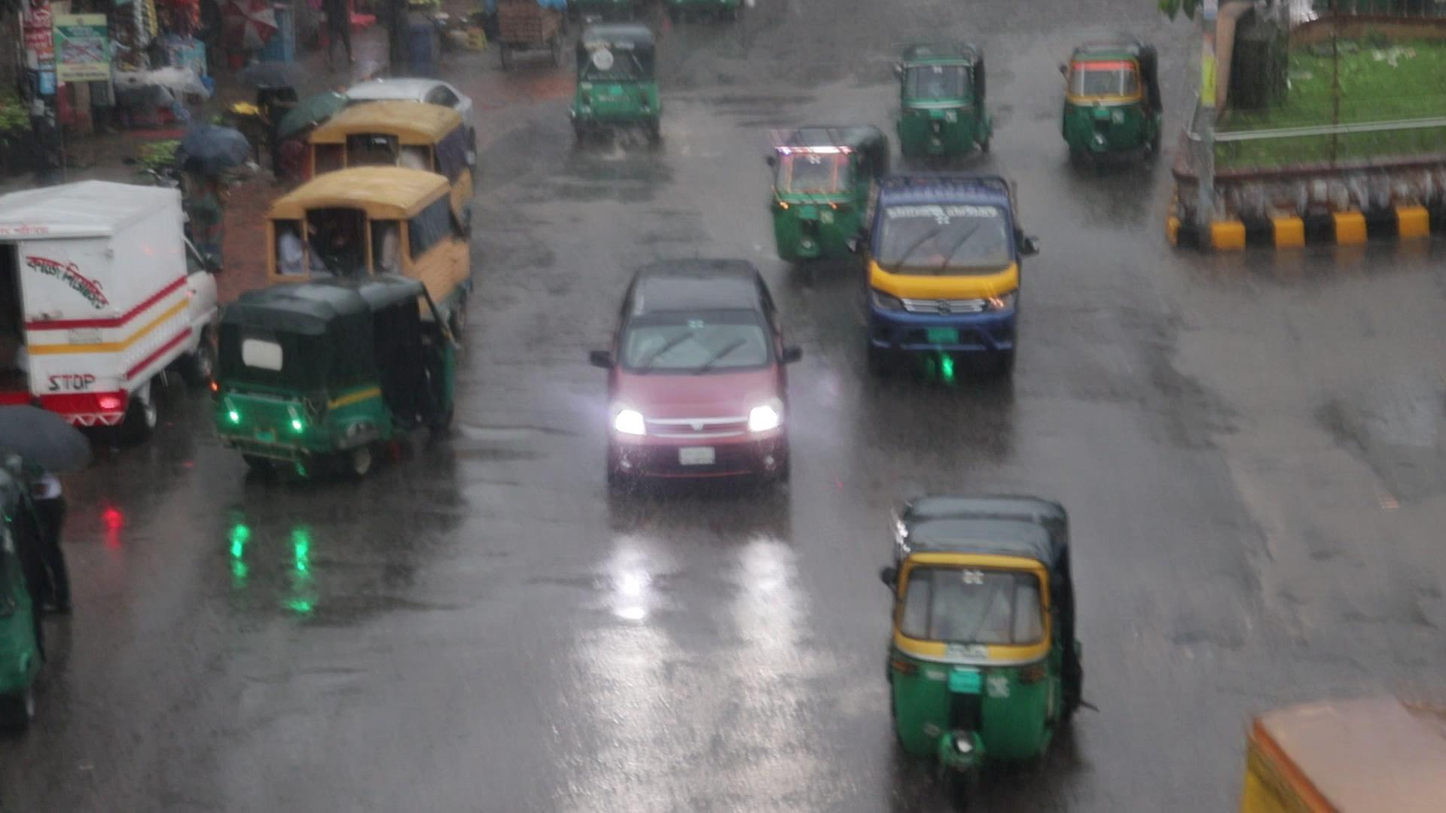Car: (599, 249, 795, 505)
Truck: (259, 163, 472, 352), (857, 164, 1025, 384)
